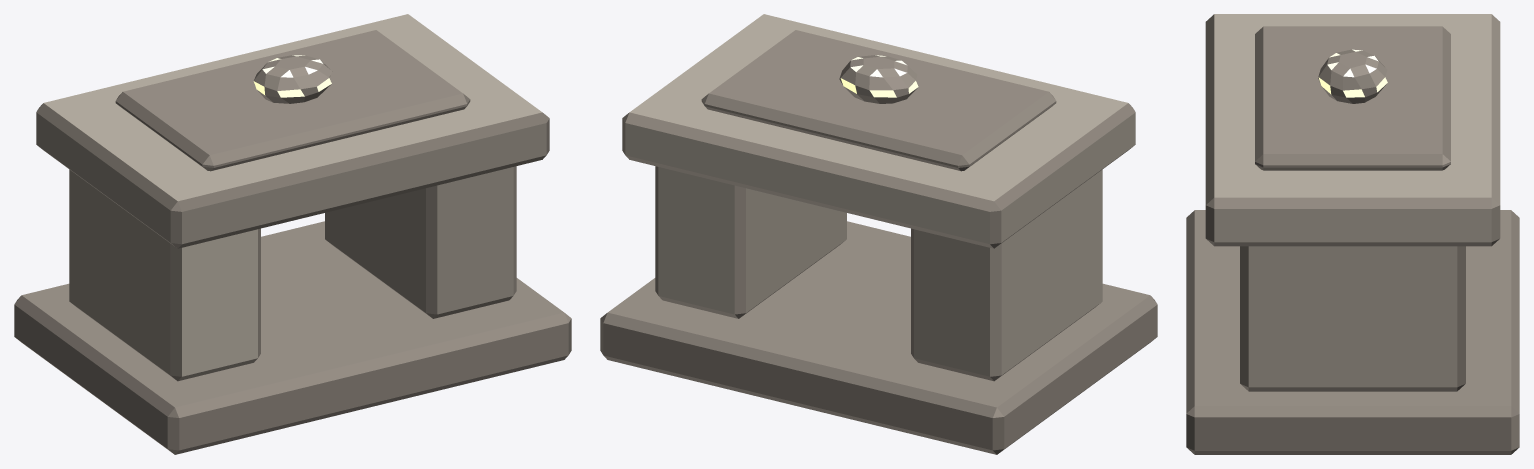
Rendered from SM_Kit_altar.fbx.
The picture shows the model from 3 angles, left to right: view 1: azimuth 30°, elevation 25°; view 2: azimuth 150°, elevation 25°; view 3: azimuth 270°, elevation 25°; orthographic projection. The views are drawn at different scales.
Parts seen in each view (by area): view 1: SM_Kit_altar; view 2: SM_Kit_altar; view 3: SM_Kit_altar.
Boxes of the visible parts, <box> form: SM_Kit_altar: <box>14,14,571,454</box>; SM_Kit_altar: <box>600,14,1157,454</box>; SM_Kit_altar: <box>1186,14,1519,454</box>.
Size of what is drawn, in the model's own units: 196 by 134 by 136.
